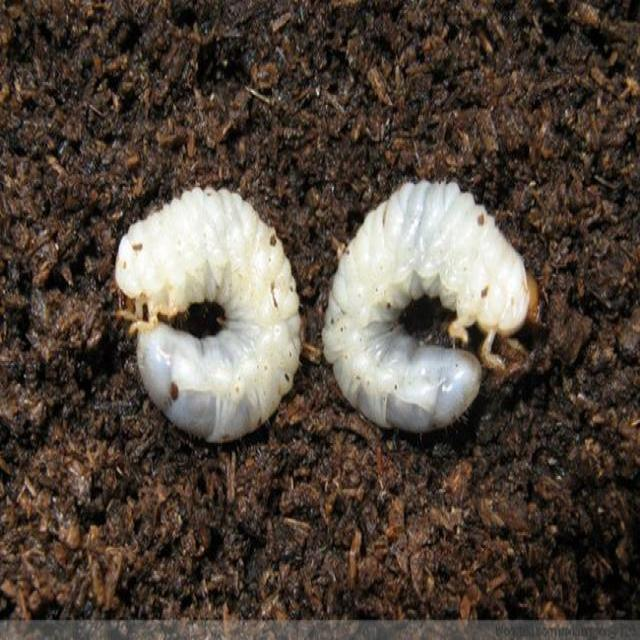Grub-Adult-: (322, 140, 536, 479), (97, 155, 310, 446)
